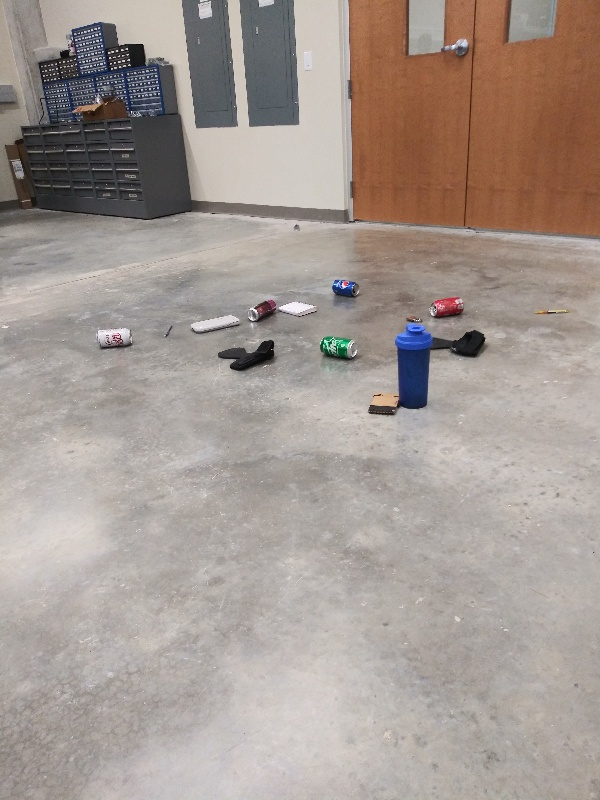can: (319, 333, 360, 358), (93, 325, 135, 349), (426, 295, 467, 318), (246, 298, 280, 323), (331, 277, 363, 299)
